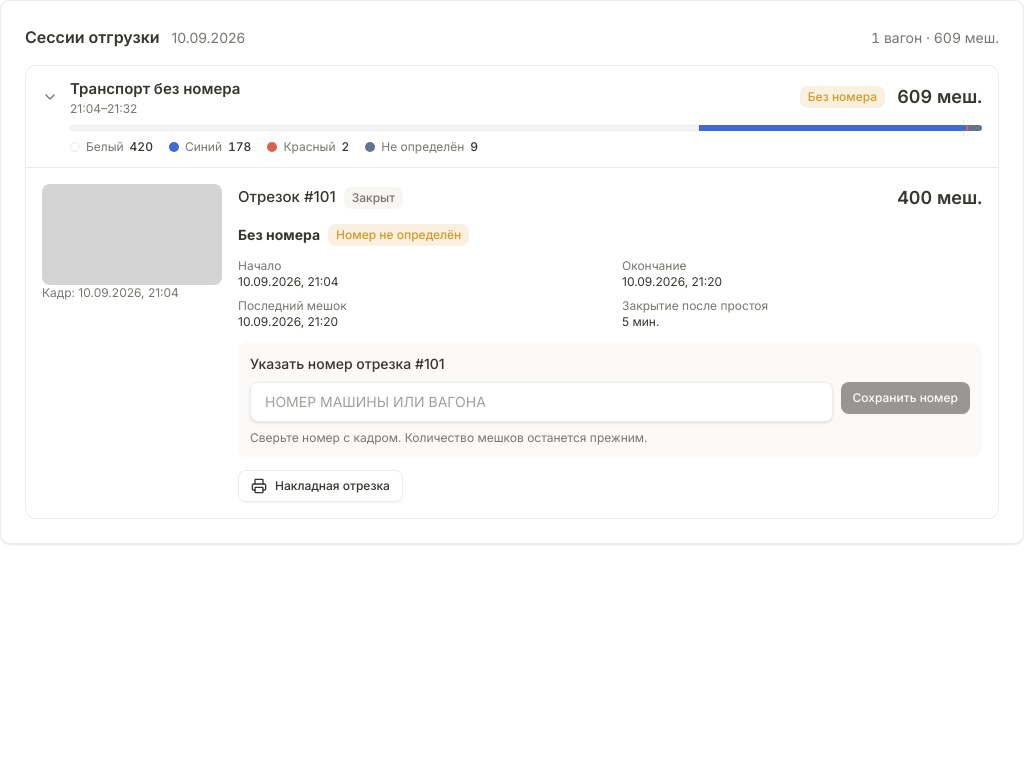
CameraShippingSessions › preserves the unknown record and typed number when the server refuses identification
In the field: [541, 402] box x1=250 y1=382 x2=832 y2=422, type "28055531"
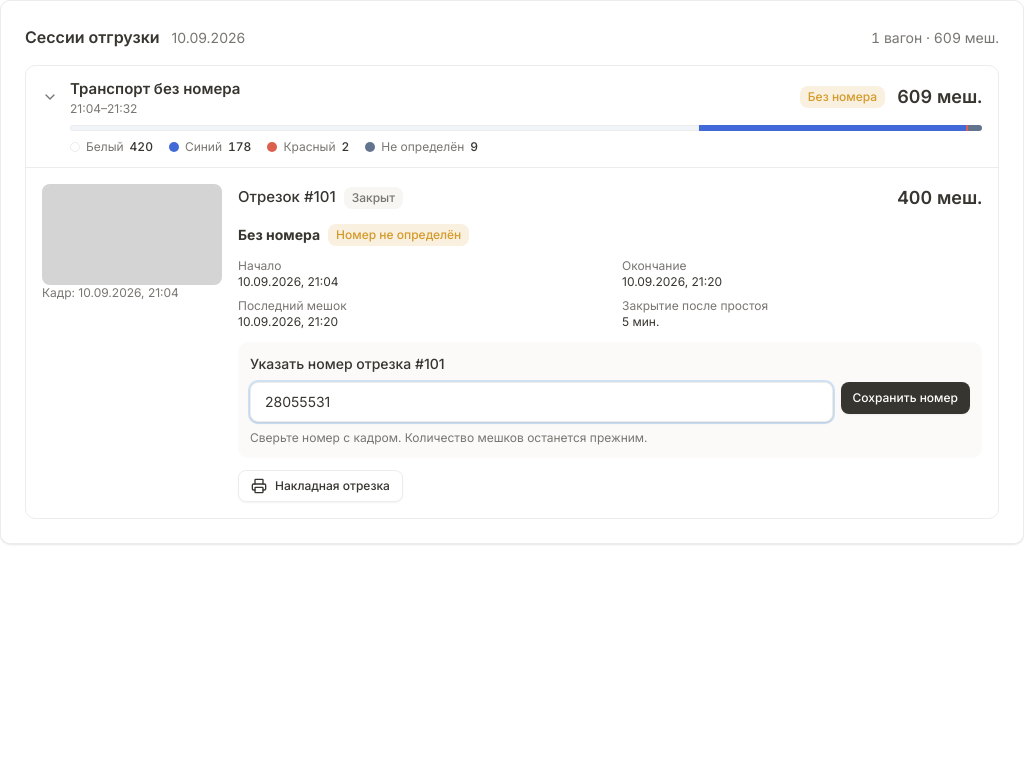
Click the button "Сохранить номер": [905, 398] box x1=840 y1=382 x2=970 y2=414
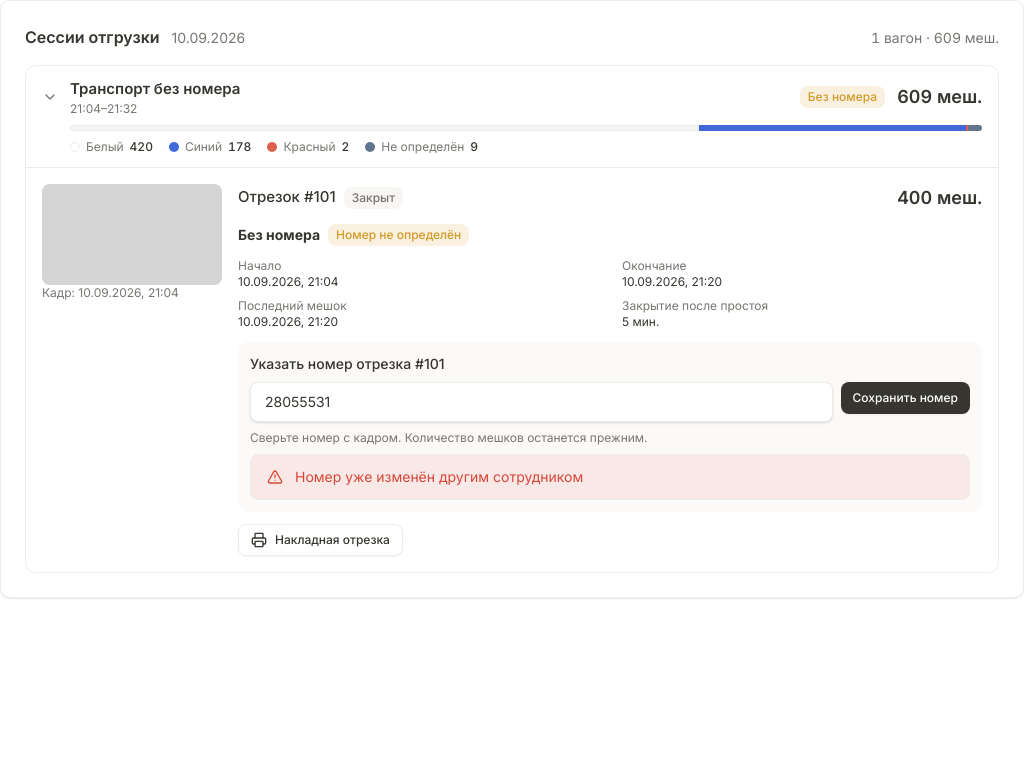
Now the message shows "Номер уже изменён", box x1=295 y1=468 x2=583 y2=484
